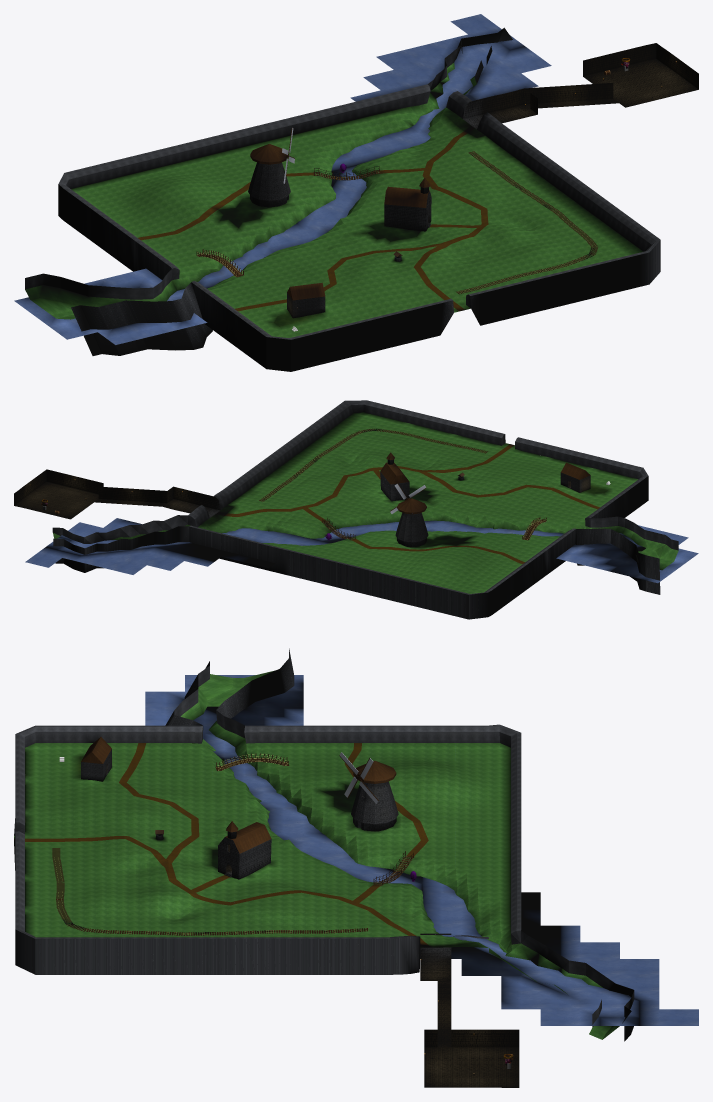
File: demo_scene.glb
3 views of the same model, one above another, from view 1: azimuth 30°, elevation 25°; view 2: azimuth 150°, elevation 25°; view 3: azimuth 270°, elevation 25° (orthographic). The views are drawn at different scales.
Visible parts, largest first — view 1: Village terrain, Walls, Water plane, Main room, Village paths, Windmill Roof, Cathedral, Corridor, Exit room, Train Track Template.001, House; view 2: Village terrain, Walls, Water plane, Main room, Village paths, Windmill Roof, Corridor, Exit room, Cathedral, Train Track Template.001, House; view 3: Village terrain, Walls, Water plane, Main room, Village paths, Cathedral, Windmill Roof, Train Track Template.001, Exit room, House, Corridor.
Boxes of the visible parts, x1=… form: Village terrain: x1=25, y1=62, x2=643, y2=337; Walls: x1=25, y1=27, x2=660, y2=371; Water plane: x1=14, y1=14, x2=551, y2=344; Main room: x1=583, y1=43, x2=698, y2=107; Village paths: x1=138, y1=125, x2=488, y2=311; Windmill Roof: x1=248, y1=144, x2=290, y2=207; Cathedral: x1=384, y1=178, x2=431, y2=231; Corridor: x1=524, y1=83, x2=618, y2=108; Exit room: x1=463, y1=88, x2=537, y2=129; Train Track Template.001: x1=456, y1=151, x2=597, y2=294; House: x1=287, y1=282, x2=325, y2=318; Village terrain: x1=53, y1=412, x2=678, y2=593; Walls: x1=52, y1=400, x2=678, y2=619; Water plane: x1=25, y1=518, x2=698, y2=583; Main room: x1=14, y1=469, x2=103, y2=519; Village paths: x1=216, y1=444, x2=599, y2=563; Windmill Roof: x1=395, y1=498, x2=428, y2=547; Corridor: x1=94, y1=486, x2=167, y2=506; Exit room: x1=163, y1=486, x2=220, y2=517; Cathedral: x1=380, y1=452, x2=409, y2=501; Train Track Template.001: x1=259, y1=428, x2=487, y2=501; House: x1=560, y1=462, x2=590, y2=492; Village terrain: x1=14, y1=670, x2=619, y2=1039; Walls: x1=14, y1=648, x2=634, y2=1041; Water plane: x1=145, y1=675, x2=698, y2=1025; Main room: x1=424, y1=1029, x2=519, y2=1087; Village paths: x1=14, y1=743, x2=432, y2=947; Cathedral: x1=218, y1=821, x2=271, y2=879; Windmill Roof: x1=351, y1=760, x2=398, y2=831; Train Track Template.001: x1=52, y1=848, x2=367, y2=935; Exit room: x1=420, y1=933, x2=451, y2=980; House: x1=81, y1=737, x2=111, y2=781; Corridor: x1=437, y1=981, x2=451, y2=1047.
Size of the model in its own units: 241 by 32.09 by 173.
6 materials, 5 textured.
